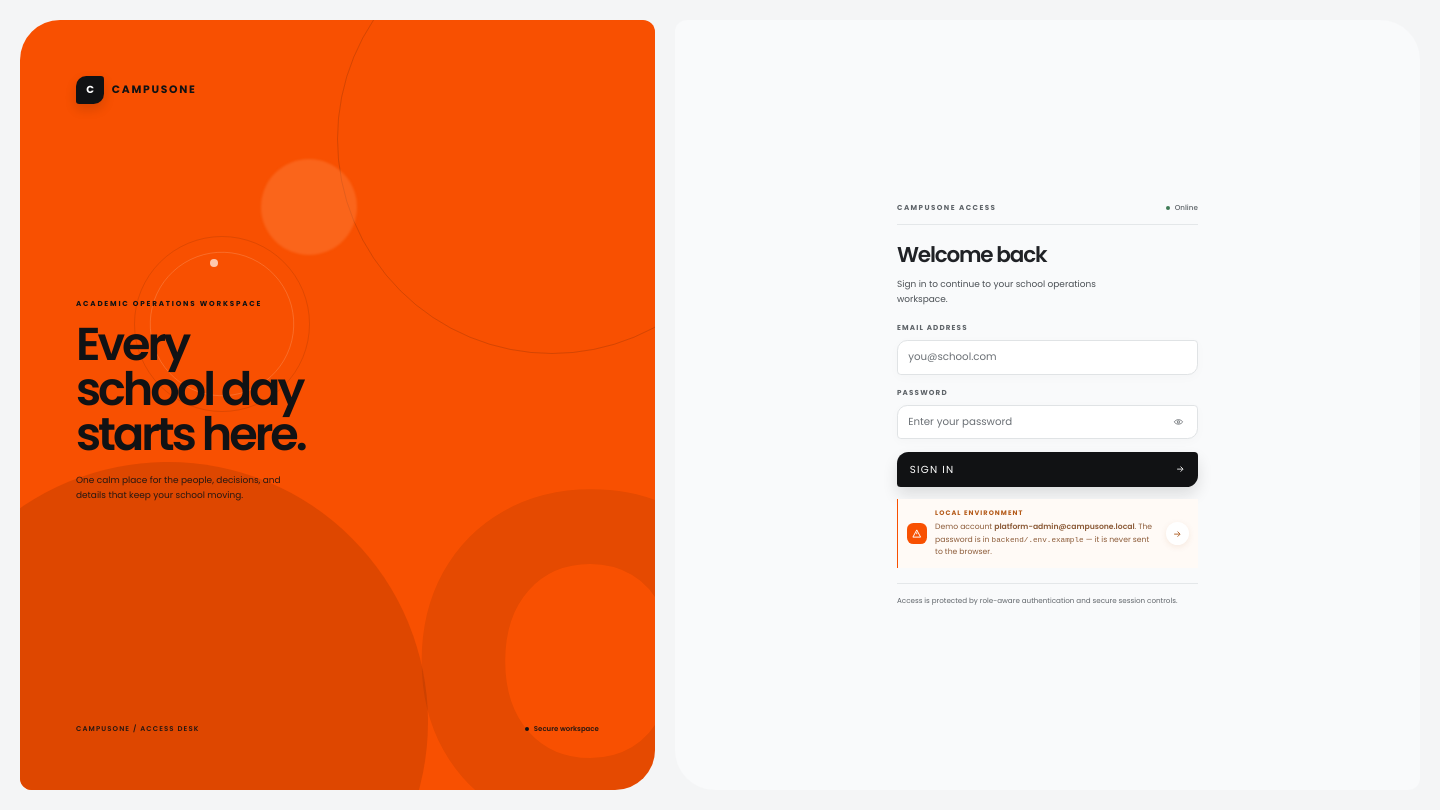
Test: LoginForm — client-side validation › marks the invalid field for assistive technology
Step 1. Type "not-an-email" into the field labelled "Email address" → point(1047, 357), box x1=897 y1=340 x2=1198 y2=375
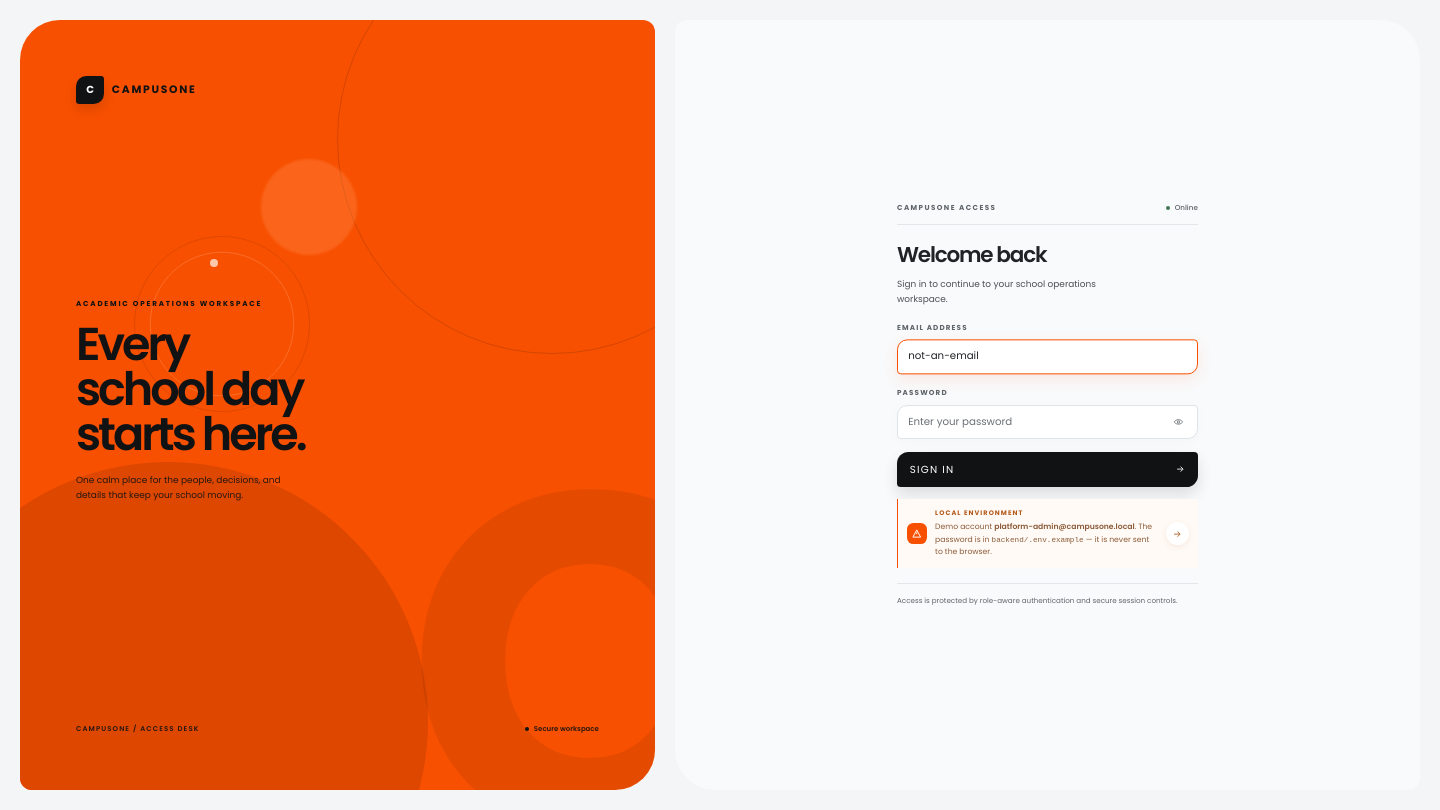
Step 2. Type "CampusOneAdmin!2026" into the password field labelled "Password" → point(1047, 422), box x1=897 y1=405 x2=1198 y2=439
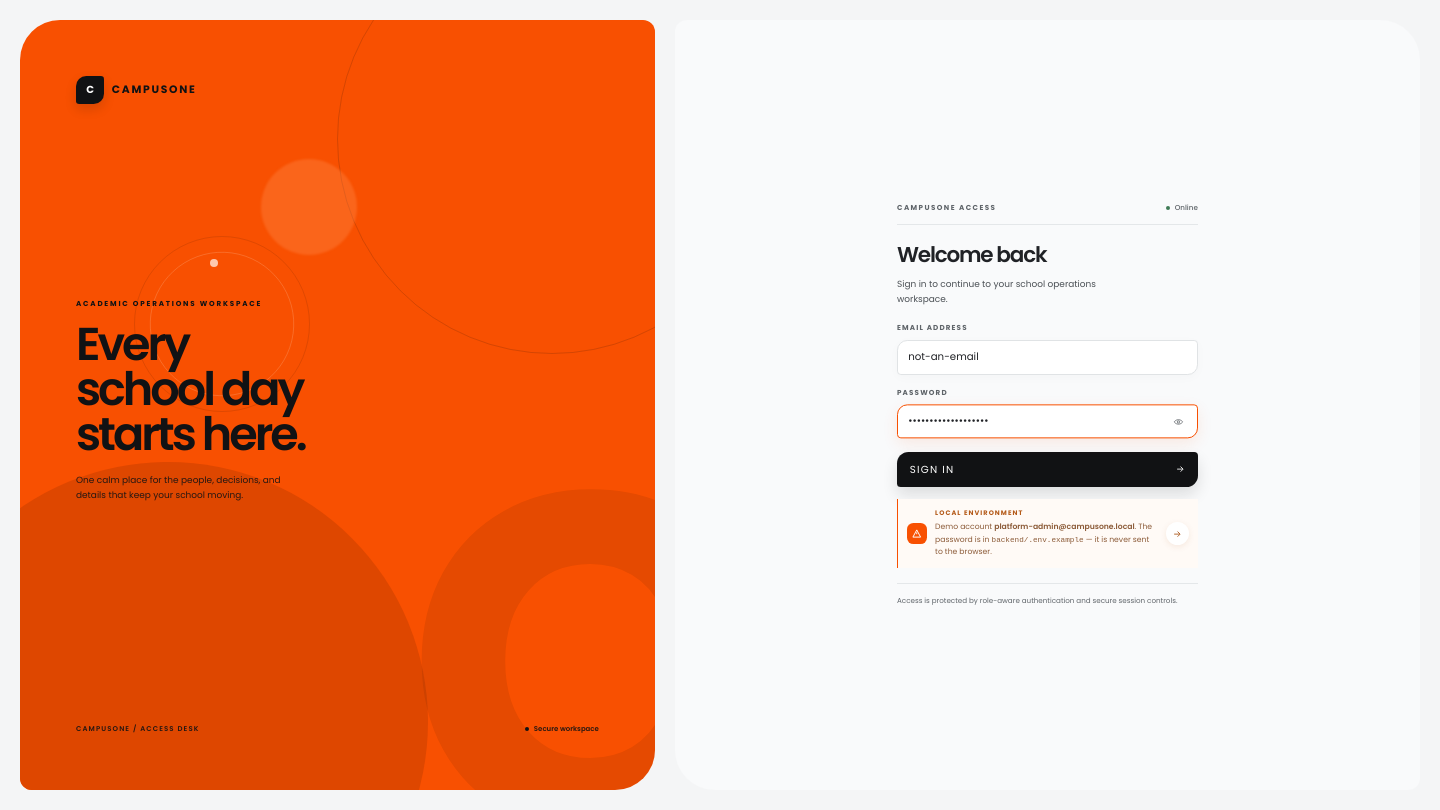
Step 3. Click the button "Sign in" → point(932, 469), box x1=897 y1=452 x2=1198 y2=486
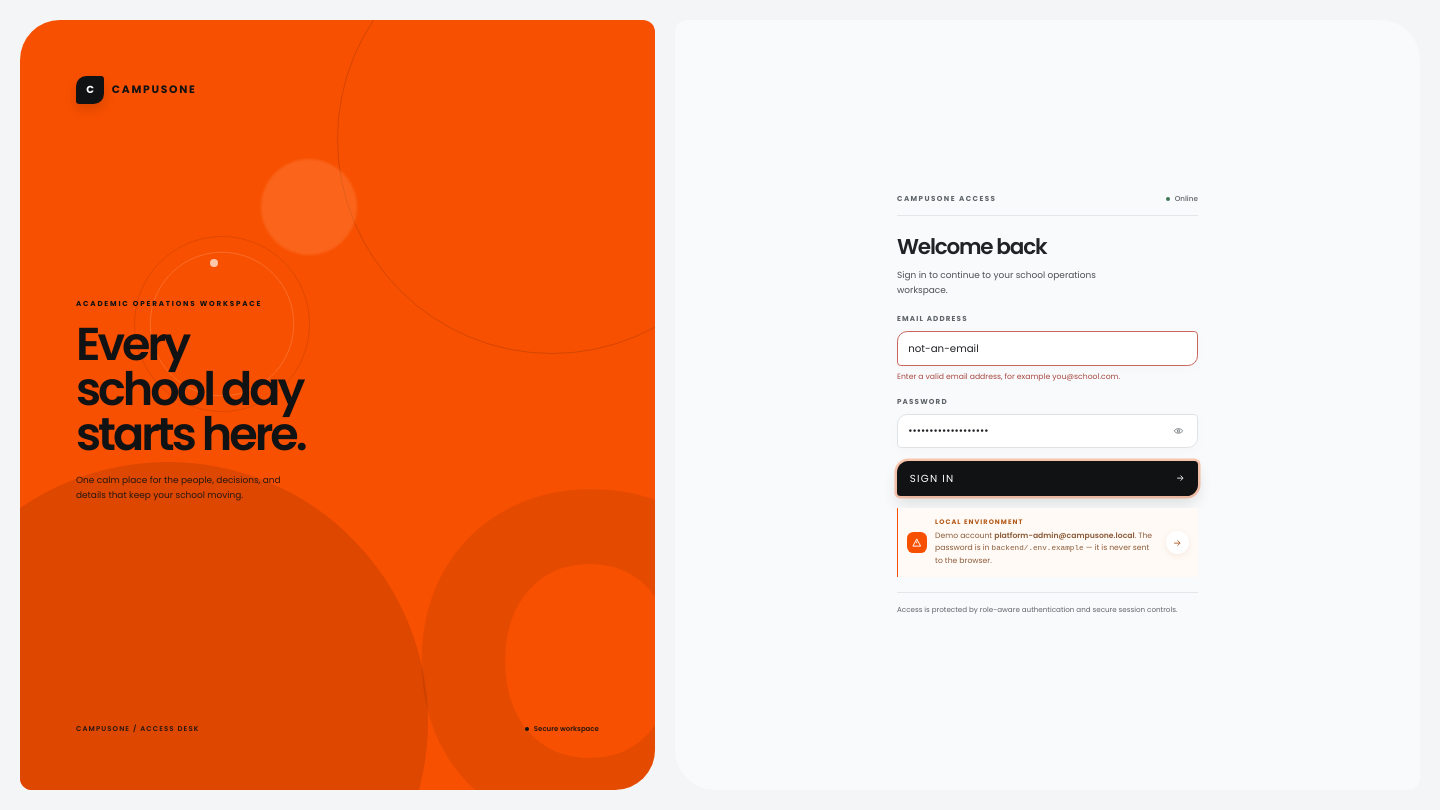
expect the text with id "email-error" shows "valid email address": met, box x1=897 y1=371 x2=1120 y2=382
